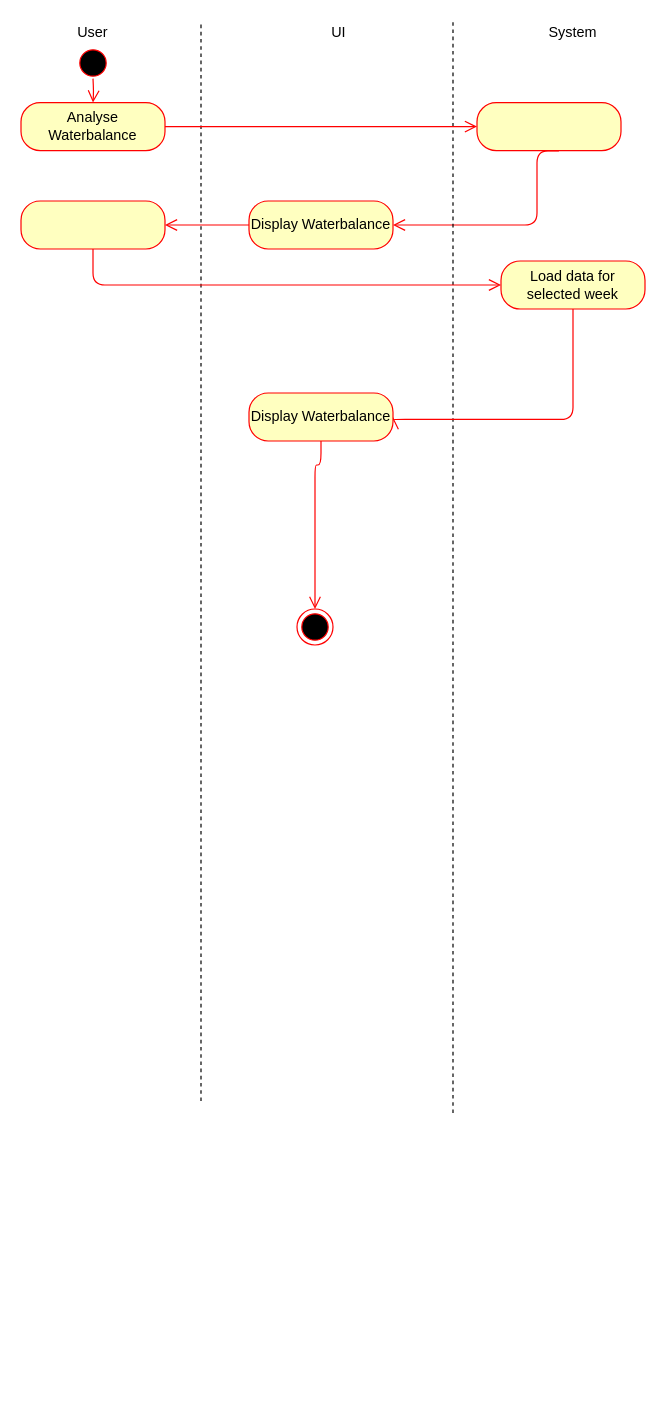
The diagram is 666 pixels wide and 1410 high, and some of its shapes have lost their labels. Each missing label, with the box of its shape:
Load data for current Week: (476, 101, 621, 151)
Navigate throw weeks: (20, 200, 165, 249)
